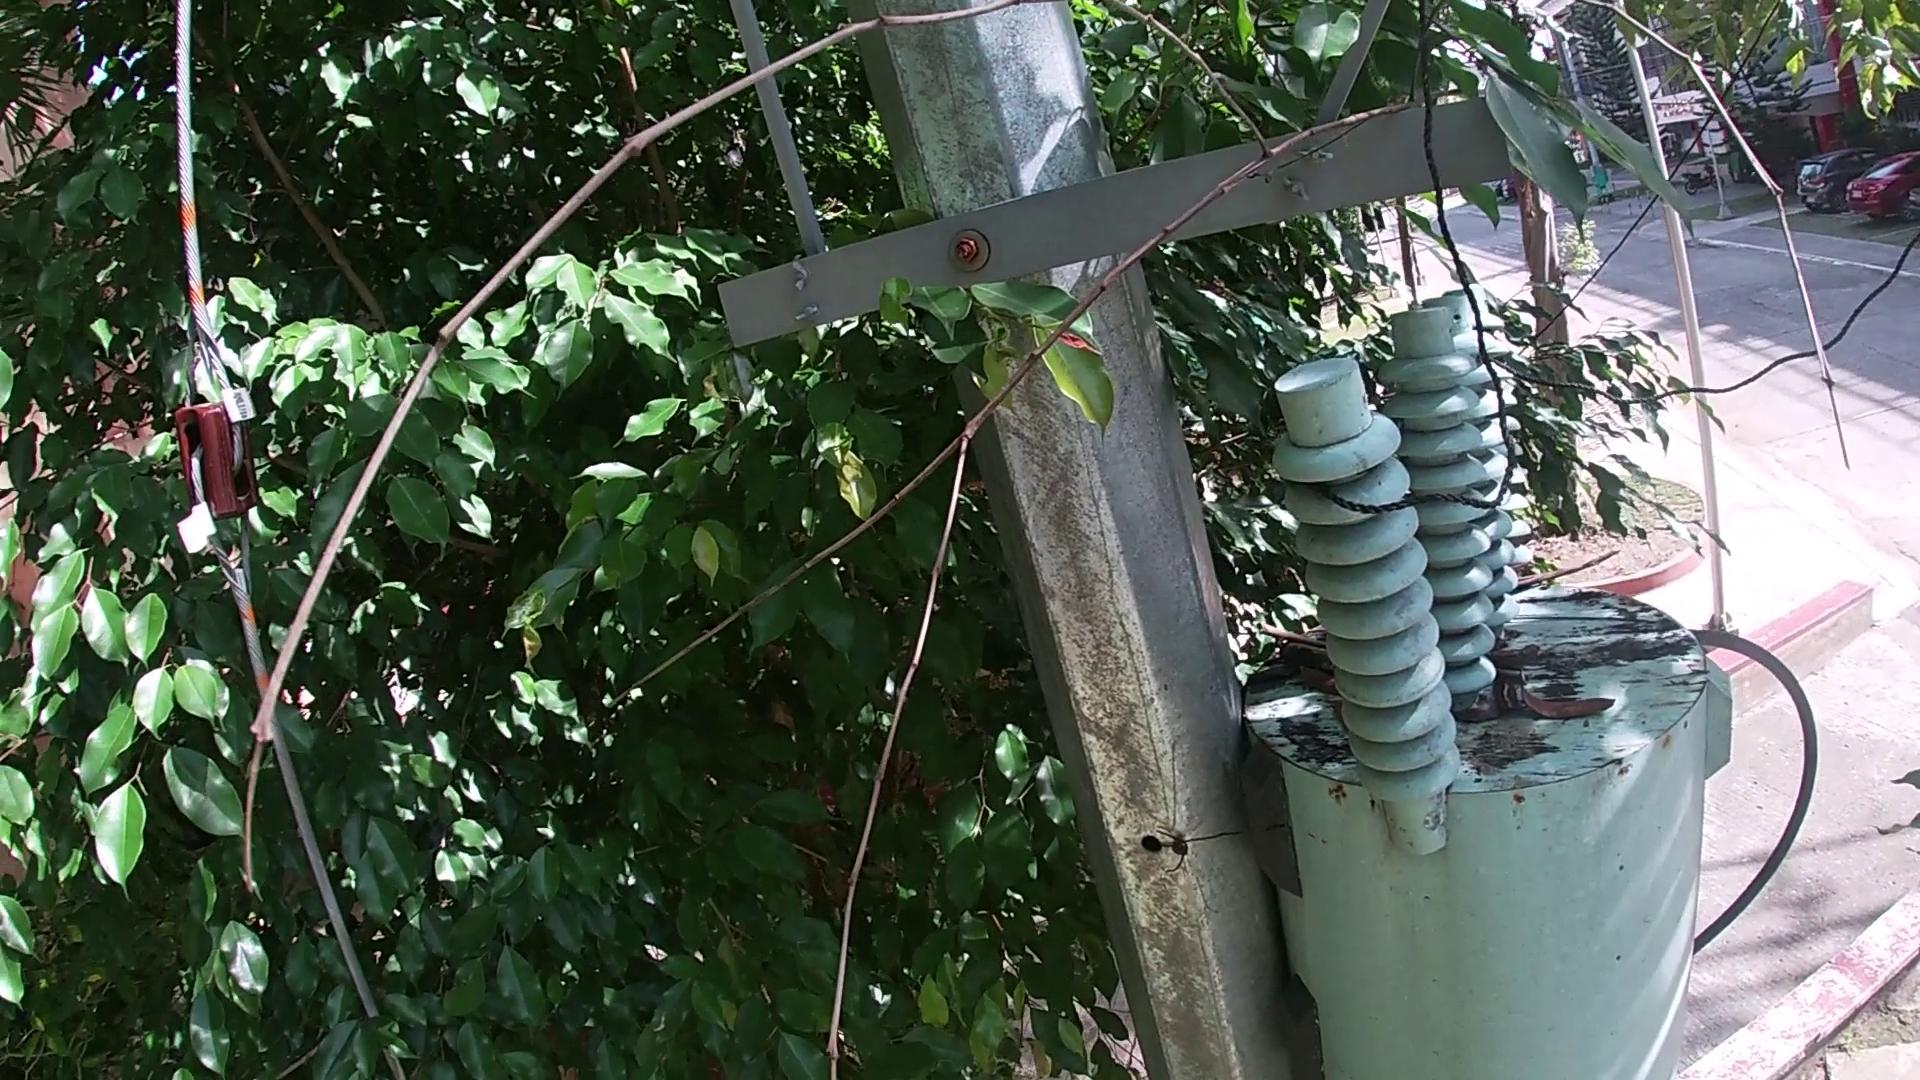leaf: (1516, 674, 1619, 727), (1298, 663, 1340, 696)
tree branch: (232, 1, 1861, 1077), (1511, 543, 1629, 597), (1255, 622, 1335, 666)
